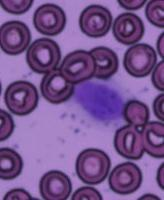L: (72, 78, 126, 125)
